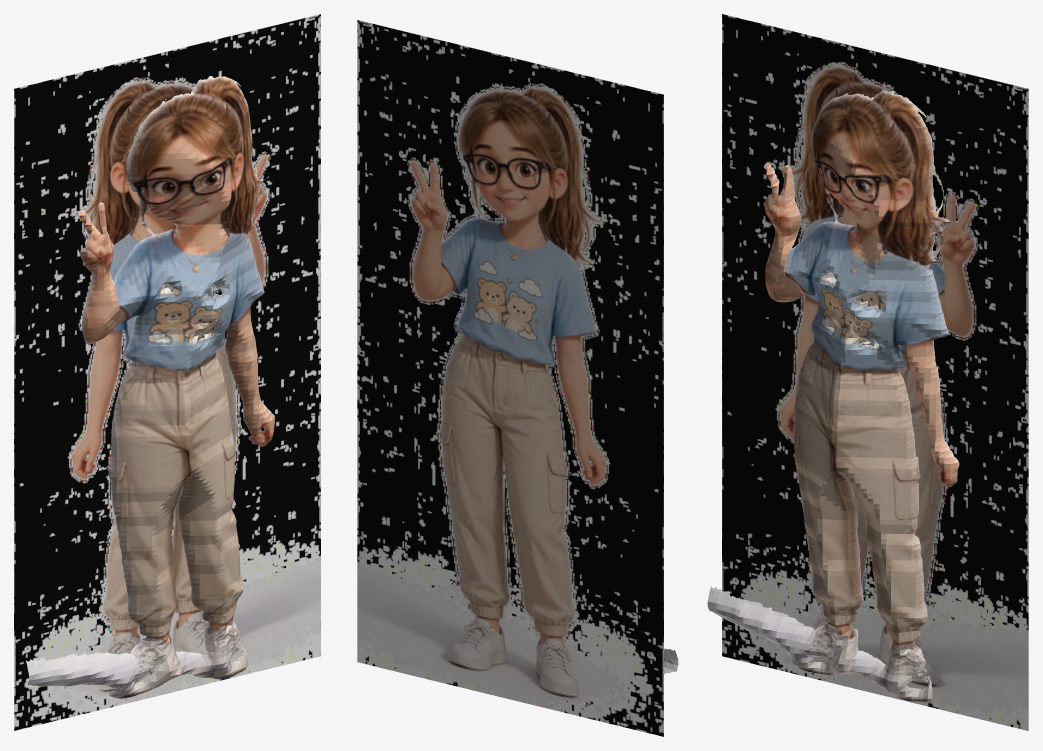
The model's file is WhatsApp_Image_2026-10-28_at_08_29_442.obj.
3 views of the same model, side by side, from view 1: azimuth 30°, elevation 25°; view 2: azimuth 150°, elevation 25°; view 3: azimuth 330°, elevation 25° (orthographic).
Size of the model in its own units: 1 by 2 by 0.1866.
2 materials, 2 textured.
